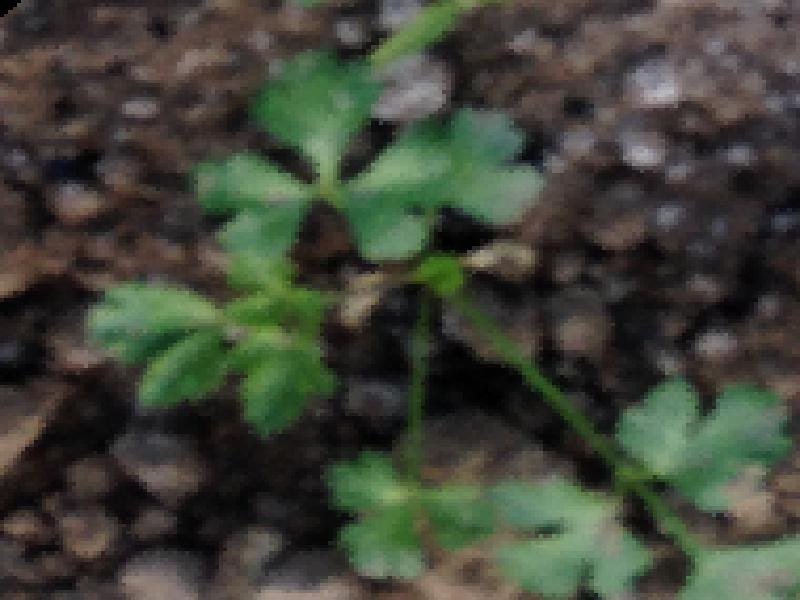radish: (198, 116, 743, 546)
